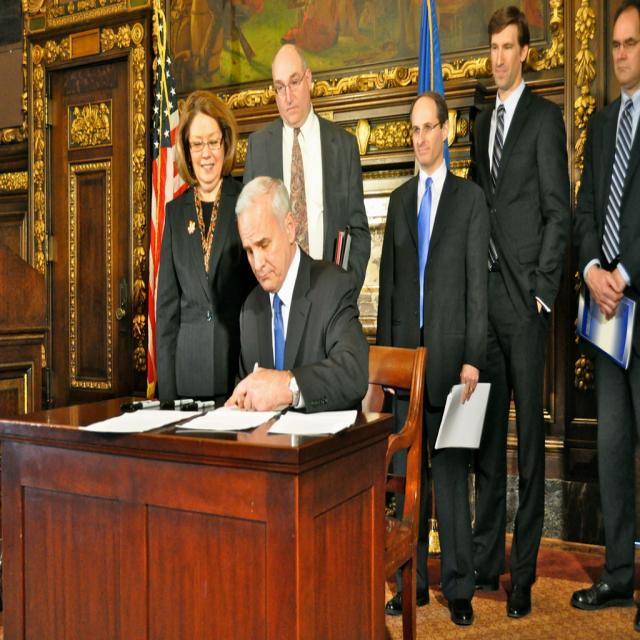chair: (363, 346, 427, 638)
desk: (4, 370, 427, 630)
person: (465, 8, 571, 623), (376, 87, 491, 626), (572, 6, 640, 619), (227, 175, 370, 416), (242, 44, 370, 311), (154, 88, 253, 404)
